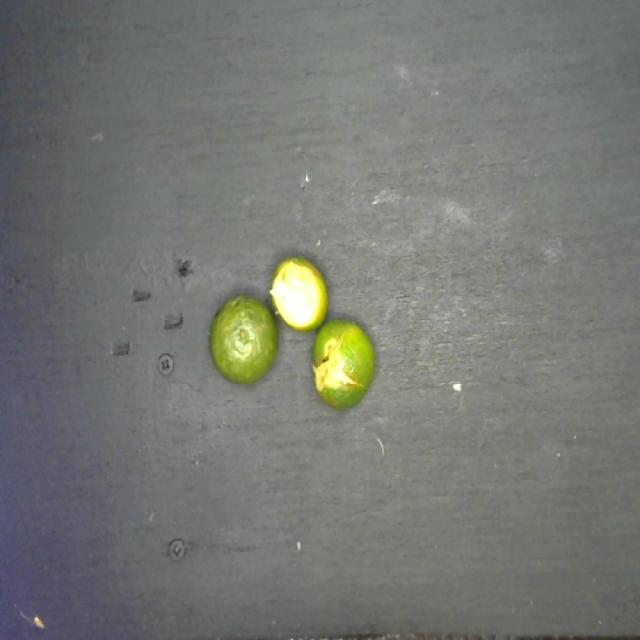biodegradable: (207, 251, 378, 411)
